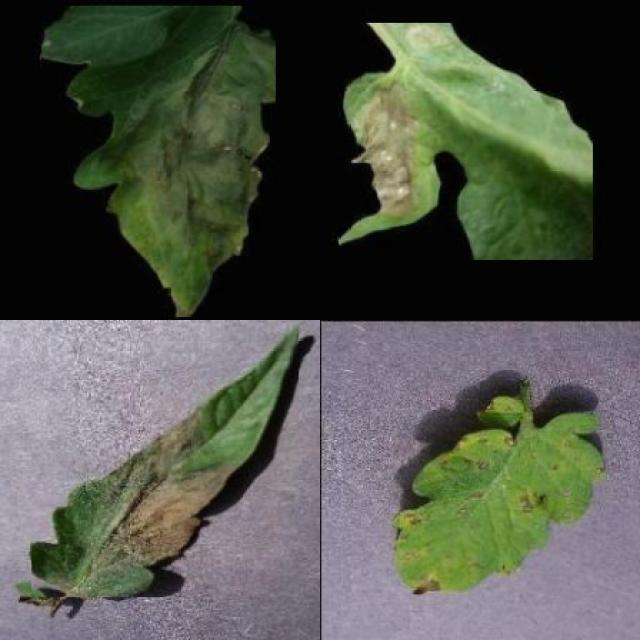Late Blight: (32, 323, 298, 598), (41, 6, 276, 317), (338, 23, 593, 260)
Septoria: (392, 412, 605, 595)
